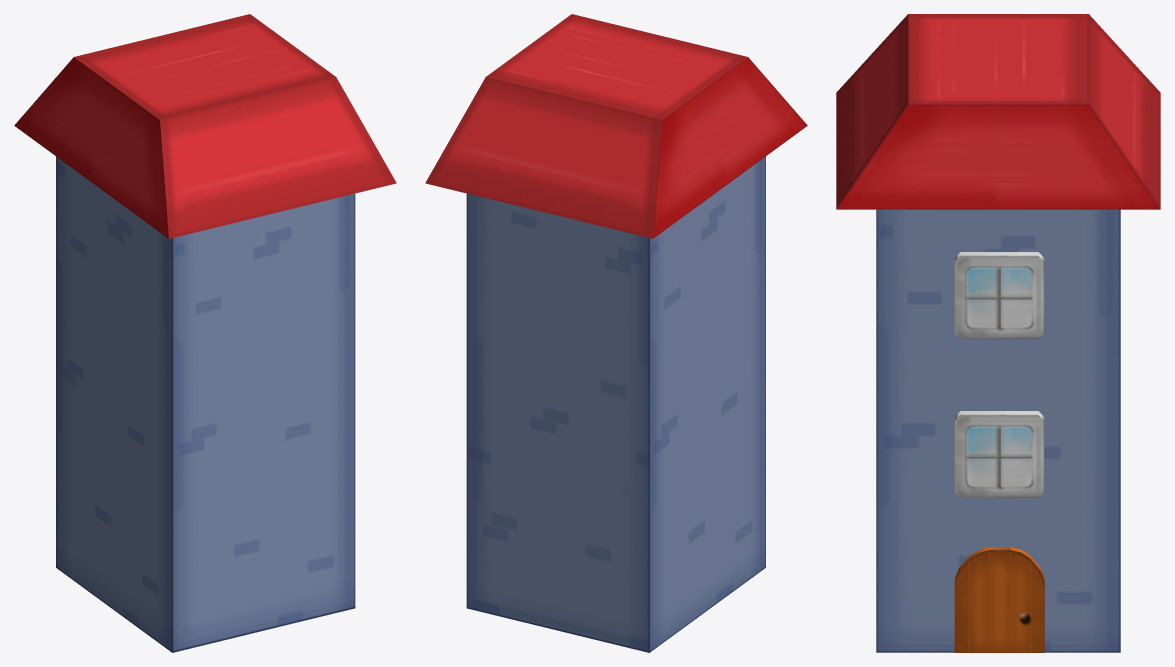
File: House_3.fbx
The picture shows the model from 3 angles, left to right: view 1: azimuth 30°, elevation 25°; view 2: azimuth 150°, elevation 25°; view 3: azimuth 270°, elevation 25°; orthographic projection. The views are drawn at different scales.
Parts seen in each view (by area): view 1: House_3; view 2: House_3; view 3: House_3.
Part boxes in pixels (bbox=[...]): House_3: bbox=[14, 14, 396, 652]; House_3: bbox=[425, 14, 807, 652]; House_3: bbox=[836, 14, 1160, 652].
Size of the model in its own units: 4.48 by 9.78 by 5.27.
